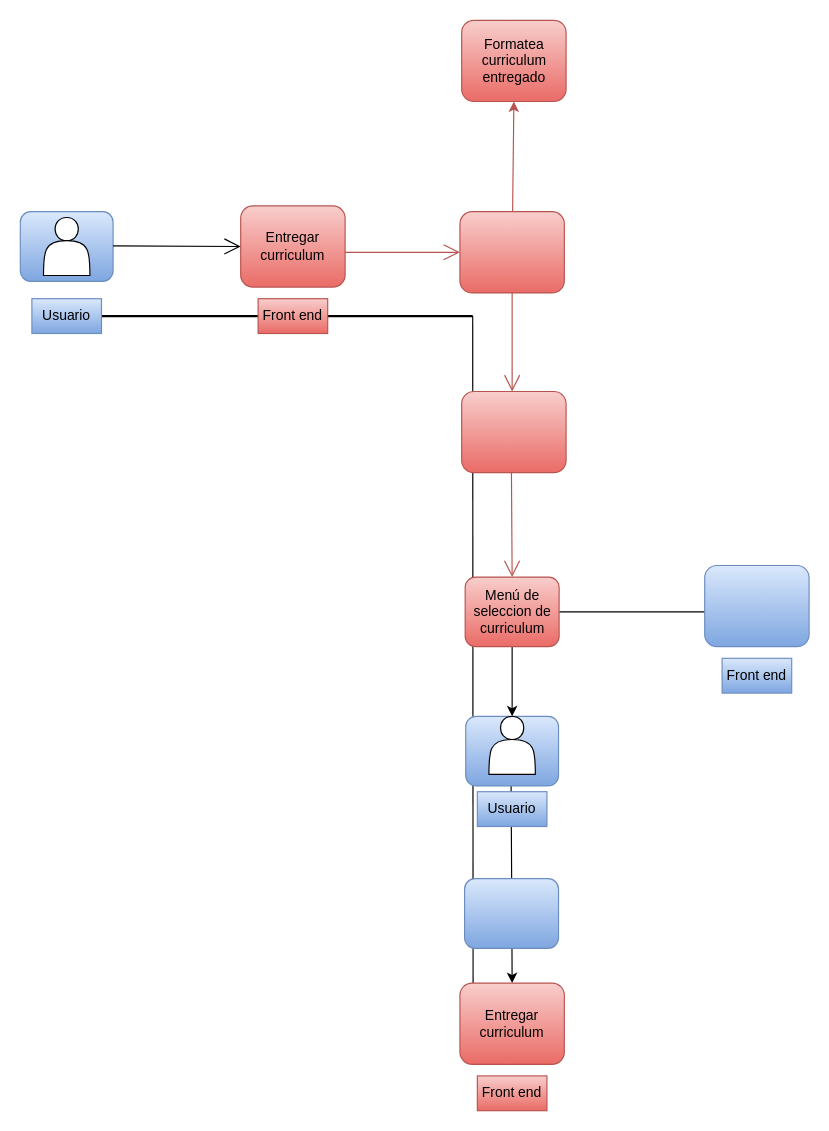
Image size: 829x1131. Some labels were removed from this diagram. Here are the shapes that lost their labels. From the top down, the box of each, then its label:
(459, 211, 564, 293): Back end
(461, 390, 566, 473): Entrega curriculum formateado
(704, 564, 809, 647): Muestra ejemplos de curriculums
(463, 878, 559, 948): Selecciona curriculum
